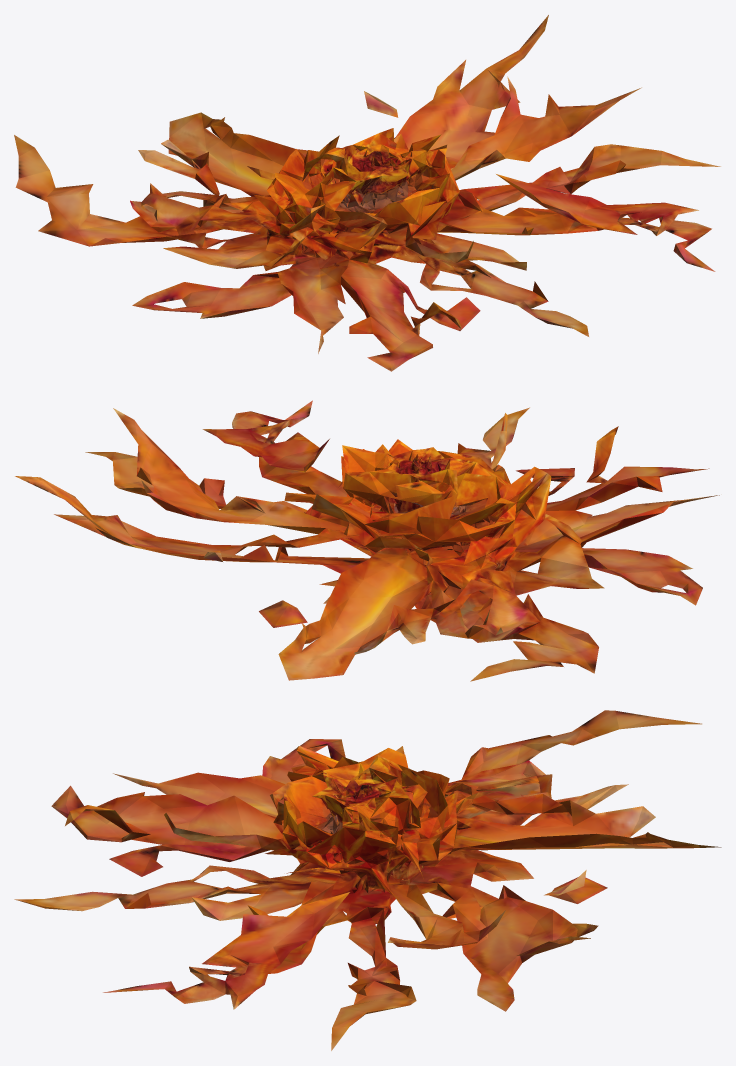
Rendered from Dried Firebloom Petals.fbx.
3 views of the same model, one above another, from view 1: azimuth 30°, elevation 25°; view 2: azimuth 150°, elevation 25°; view 3: azimuth 270°, elevation 25° (orthographic). The views are drawn at different scales.
Parts seen in each view (by area): view 1: temp; view 2: temp; view 3: temp.
Boxes of the visible parts, bbox=[...] form: temp: bbox=[14, 15, 720, 371]; temp: bbox=[15, 400, 719, 681]; temp: bbox=[14, 710, 721, 1050].
Bounding box in the file's own units: 191 × 28.77 × 183.
Materials: 1 (1 with a texture image).
